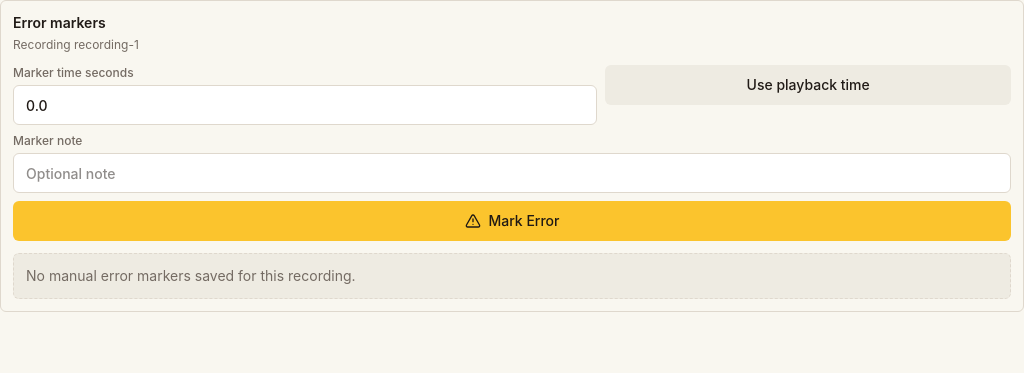
Test: ErrorMarkerPanel › trims marker notes before saving visible marker text
Replace the text in the number field labelled "Marker time seconds" with "0.5" at (305, 105), box [13,85,597,125]
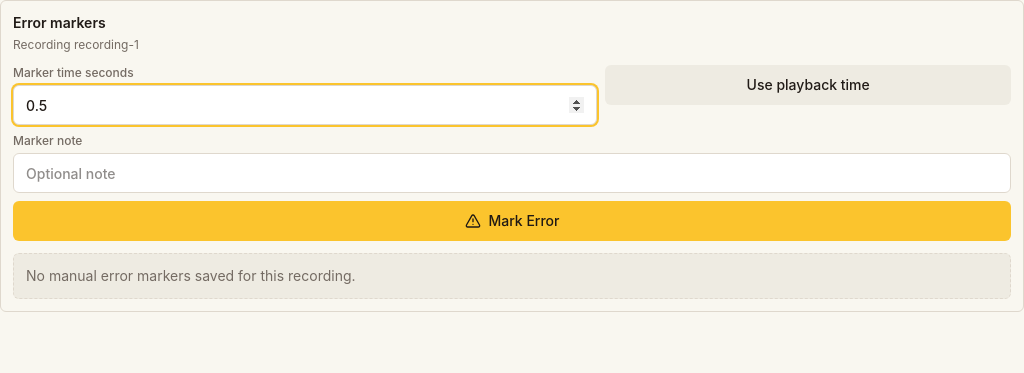
Type "  rushed shift  " into the field labelled "Marker note" at (512, 173), box [13,153,1011,193]
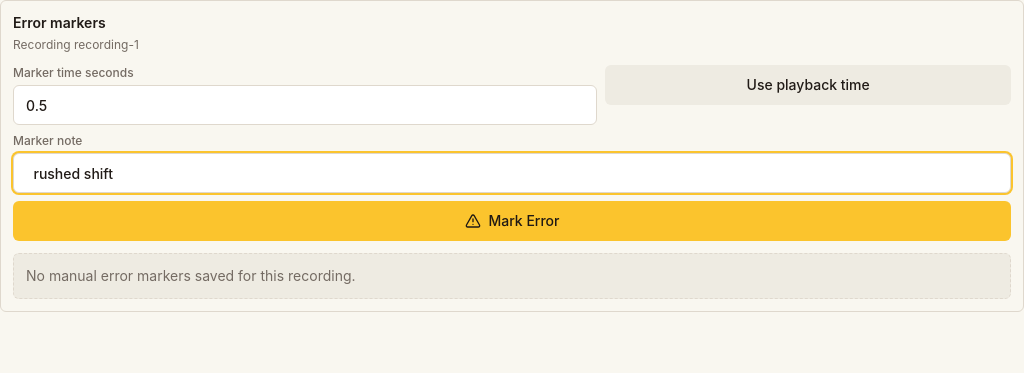
Click the button "Mark Error" at (512, 221), box [13,201,1011,241]
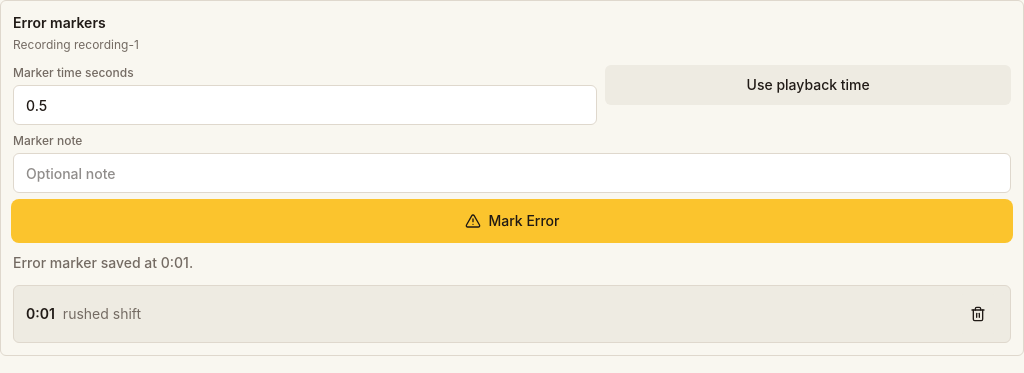
Now the message reads "Error marker saved at 0:01.", box [13,254,193,271]
Now the list with test id "sheet-error-marker-list" shows "rushed shift", box [26,294,950,334]
